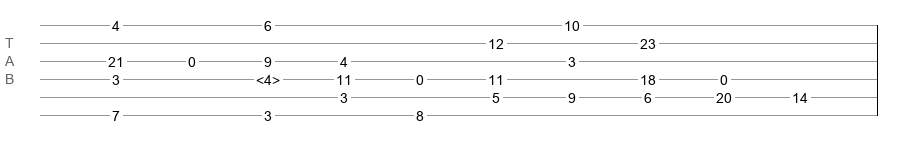0: (188, 54, 196, 64), (416, 72, 424, 82), (720, 72, 728, 82)
10: (564, 18, 580, 28)
11: (336, 72, 352, 82), (488, 72, 504, 82)
12: (488, 36, 504, 46)
14: (792, 90, 808, 100)
18: (640, 72, 656, 82)
20: (716, 90, 732, 100)
21: (108, 54, 124, 64)
23: (640, 36, 656, 46)
3: (112, 72, 120, 82), (264, 108, 272, 118), (340, 90, 348, 100), (568, 54, 576, 64)
4: (112, 18, 120, 28), (340, 54, 348, 64)
5: (492, 90, 500, 100)
6: (264, 18, 272, 28), (644, 90, 652, 100)
7: (112, 108, 120, 118)
8: (416, 108, 424, 118)
9: (264, 54, 272, 64), (568, 90, 576, 100)
harmonic: (256, 72, 280, 82)
